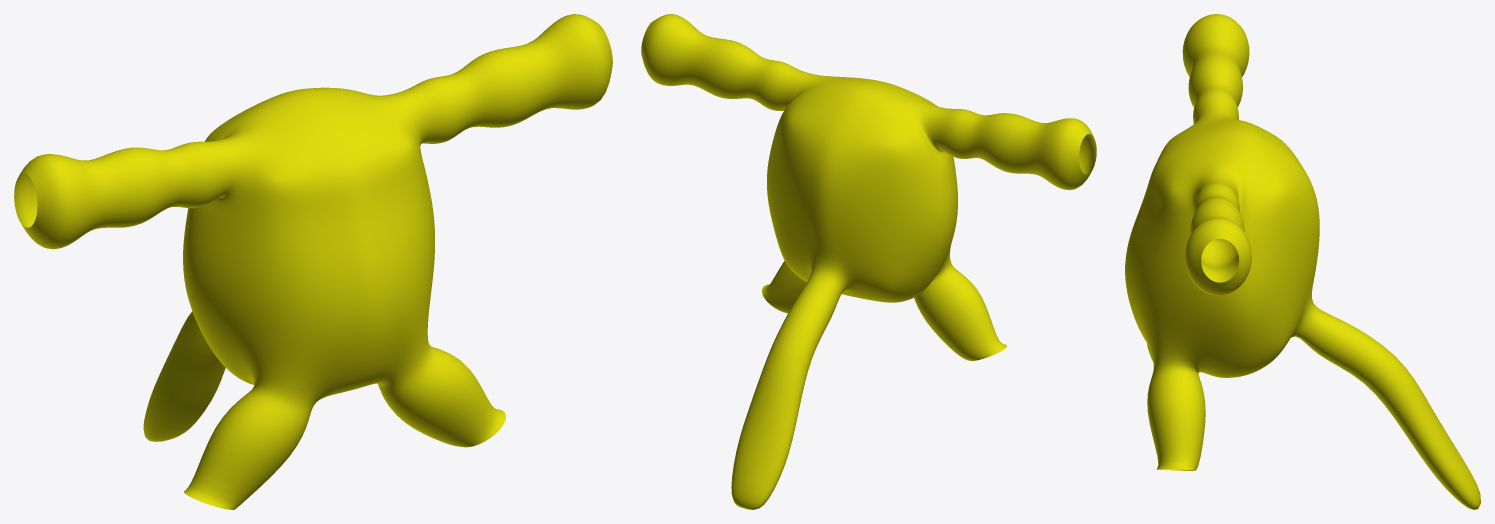
Rendered from zone4-singe-yellow.gltf.
3 views of the same model, side by side, from view 1: azimuth 30°, elevation 25°; view 2: azimuth 150°, elevation 25°; view 3: azimuth 270°, elevation 25° (orthographic). The views are drawn at different scales.
Visible parts, largest first — view 1: Roundcube.028; view 2: Roundcube.028; view 3: Roundcube.028.
Part boxes in pixels (x1=…): Roundcube.028: x1=14, y1=14, x2=612, y2=509; Roundcube.028: x1=641, y1=14, x2=1096, y2=509; Roundcube.028: x1=1125, y1=14, x2=1480, y2=509.
Bounding box in the file's own units: 4.29 × 3.34 × 2.76.
